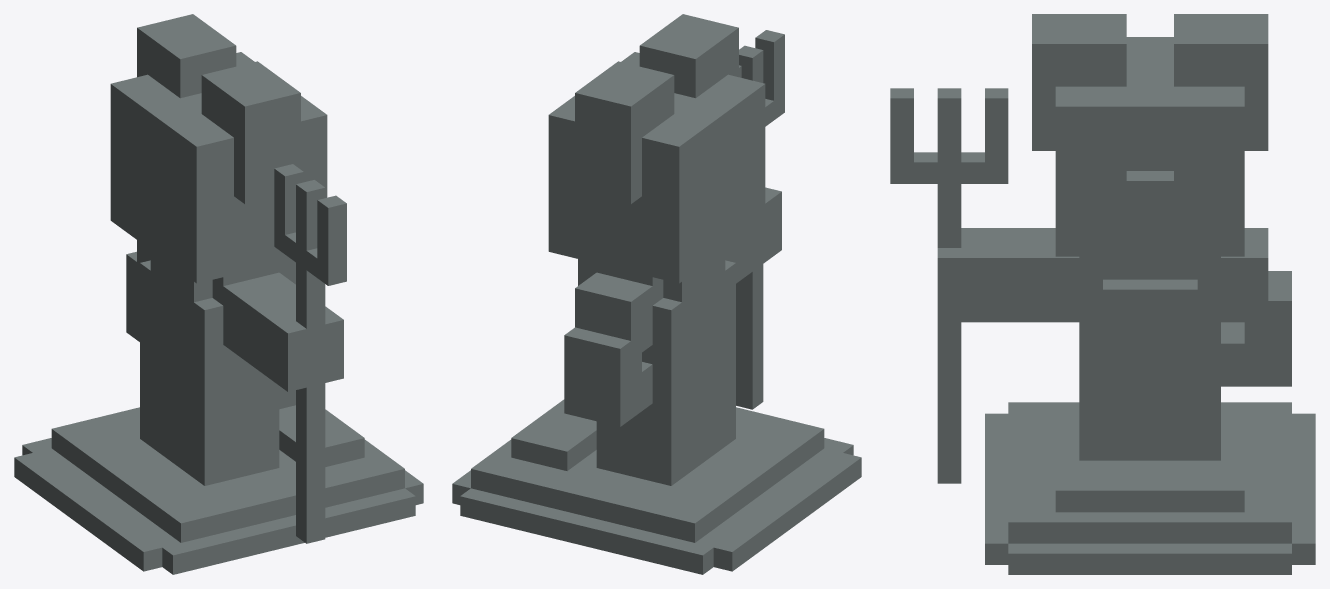
Rendered from env_8.obj.
3 views of the same model, side by side, from view 1: azimuth 30°, elevation 25°; view 2: azimuth 150°, elevation 25°; view 3: azimuth 270°, elevation 25° (orthographic). The views are drawn at different scales.
Bounding box in the file's own units: 1.5 × 2.2 × 1.8.
